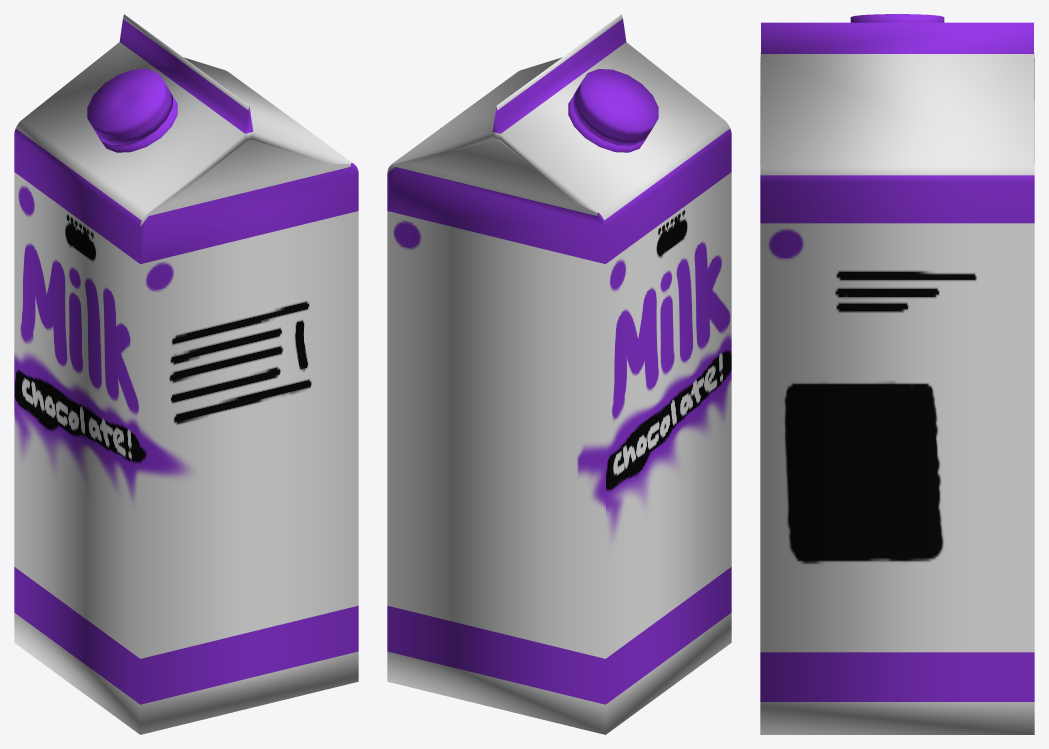
Rendered from milk.glb.
The picture shows the model from 3 angles, left to right: view 1: azimuth 30°, elevation 25°; view 2: azimuth 150°, elevation 25°; view 3: azimuth 270°, elevation 25°; orthographic projection. The views are drawn at different scales.
Parts seen in each view (by area): view 1: carton, bottle top; view 2: carton, bottle top; view 3: carton, bottle top.
Boxes of the visible parts, x1,y1,x2,y2 form: carton: [14, 14, 358, 734]; bottle top: [87, 69, 177, 152]; carton: [387, 14, 731, 734]; bottle top: [568, 69, 658, 152]; carton: [760, 22, 1034, 734]; bottle top: [850, 14, 944, 22].
Bounding box in the file's own units: 3.3 × 8.68 × 3.3.
3 materials, 1 textured.
